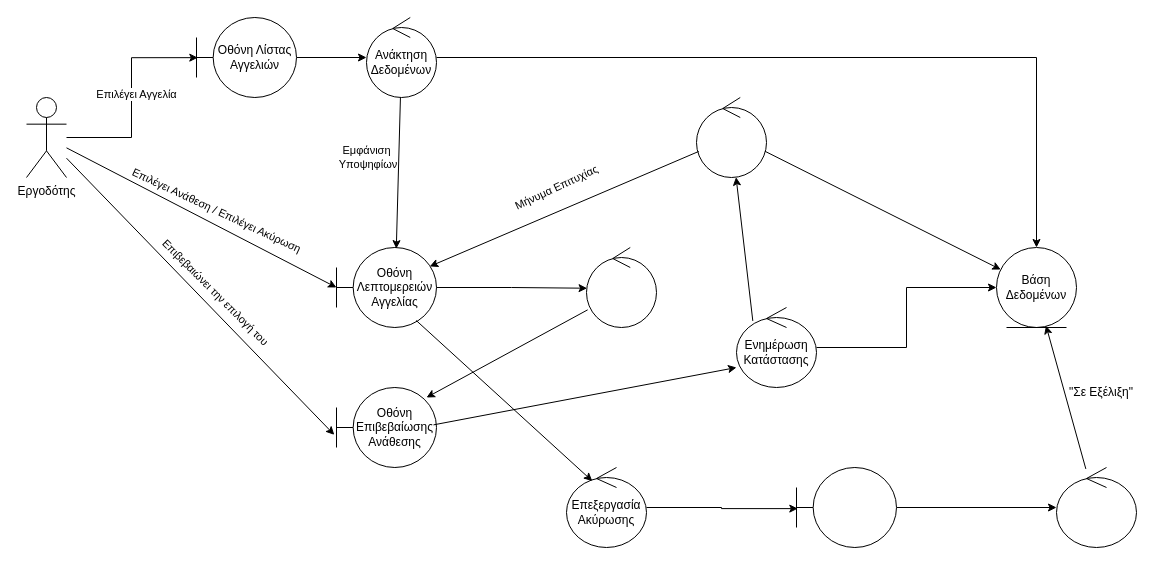
The diagram is 1154 pixels wide and 565 high, and some of its shapes have lost their labels. The shapes that lost their labels are listed below. From the top down, each one's box as (x1, y1, x2, y2) in pixels, then its label:
(696, 96, 766, 178): Δημιουργία Ειδοποιήσεων
(586, 246, 656, 328): Επεξεργασία Επιλογής
(796, 466, 896, 548): Οθόνη Επιβεβαίωσης Ακύρωσης
(1056, 466, 1136, 548): Ακύρωση και Ενημέρωση
